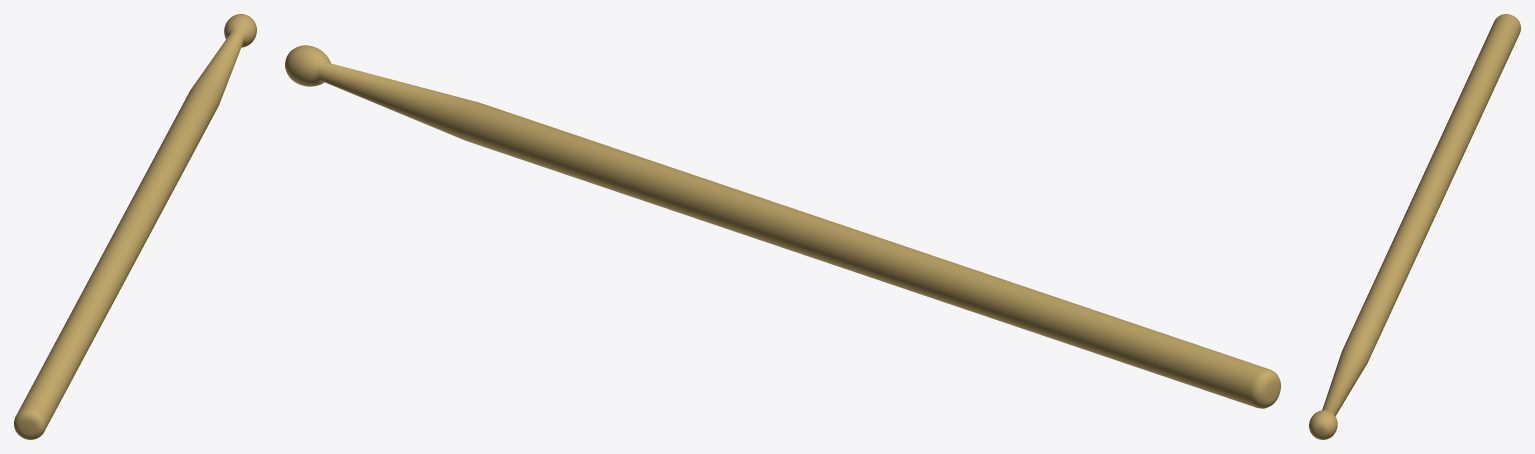
File: stick2.glb
3 views of the same model, side by side, from view 1: azimuth 90°, elevation 25°; view 2: azimuth 150°, elevation 25°; view 3: azimuth 270°, elevation 25° (orthographic). The views are drawn at different scales.
Parts seen in each view (by area): view 1: stick2; view 2: stick2; view 3: stick2.
Boxes of the visible parts, x1=… form: stick2: x1=14, y1=14, x2=256, y2=439; stick2: x1=285, y1=45, x2=1280, y2=408; stick2: x1=1309, y1=14, x2=1520, y2=439.
Size of the model in its own units: 1.62 by 0.1048 by 0.3806.
